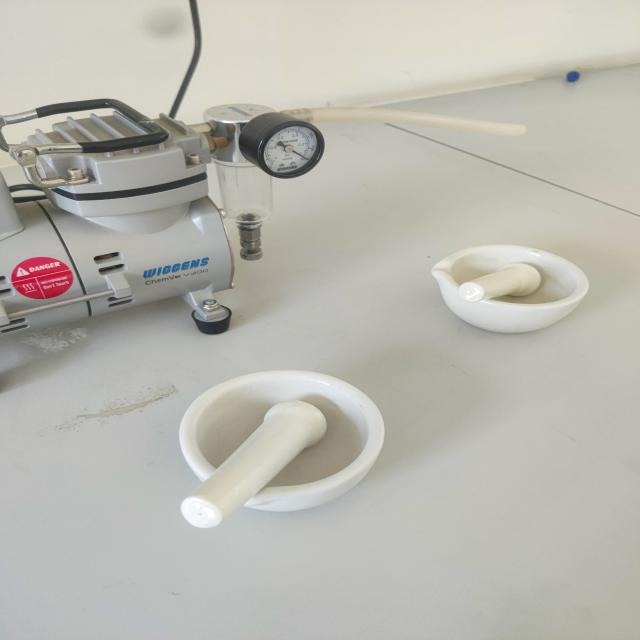Porcelain_Mortar Pestle: (148, 339, 413, 554), (403, 217, 610, 351)
